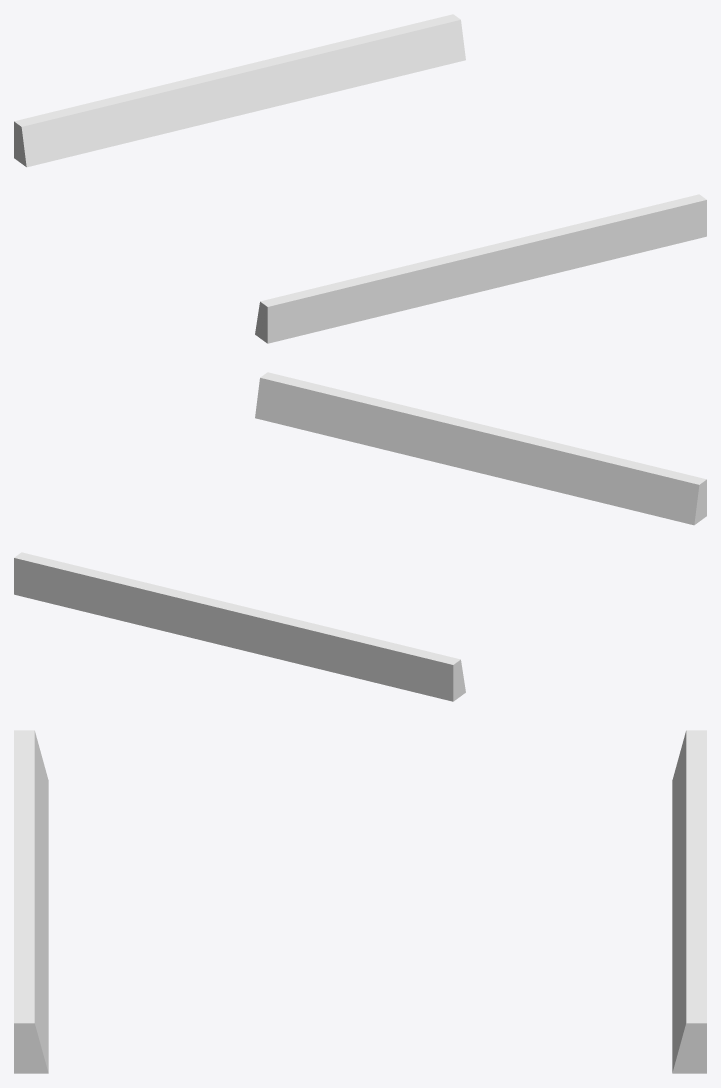
The model's file is road-straight-barrier.glb.
3 views of the same model, one above another, from view 1: azimuth 30°, elevation 25°; view 2: azimuth 150°, elevation 25°; view 3: azimuth 270°, elevation 25° (orthographic). The views are drawn at different scales.
Parts seen in each view (by area): view 1: road-straight-barrier; view 2: road-straight-barrier; view 3: road-straight-barrier.
Boxes of the visible parts, bbox=[...] form: road-straight-barrier: bbox=[14, 14, 706, 343]; road-straight-barrier: bbox=[14, 372, 706, 701]; road-straight-barrier: bbox=[14, 730, 706, 1073].
Bounding box in the file's own units: 1 × 0.08 × 1.
Materials: 1 (1 with a texture image).
